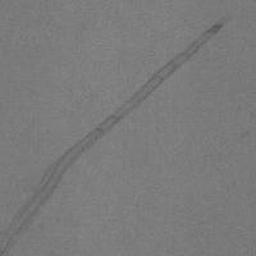Water spot: (0, 13, 233, 256)
